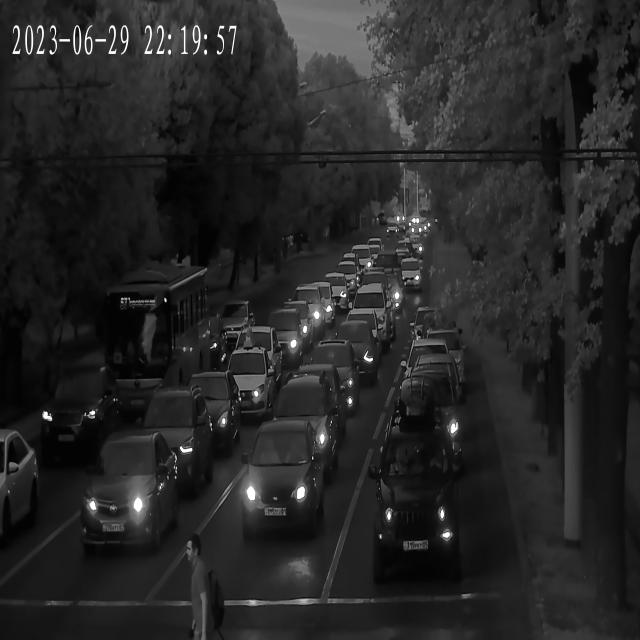Bus: (104, 264, 207, 427)
Car: (376, 418, 466, 591), (74, 435, 179, 555), (119, 386, 212, 492), (235, 425, 322, 536), (382, 369, 466, 473), (252, 379, 336, 480), (41, 385, 110, 452), (0, 430, 38, 545), (282, 368, 353, 424), (288, 340, 358, 394), (324, 322, 380, 382), (399, 337, 458, 390), (229, 330, 285, 382), (342, 304, 394, 352), (260, 312, 310, 361), (281, 286, 333, 332), (357, 271, 404, 320), (418, 329, 468, 374), (211, 300, 258, 346), (412, 310, 457, 347), (315, 276, 351, 306), (394, 260, 422, 292), (330, 262, 362, 290), (348, 245, 378, 270)
